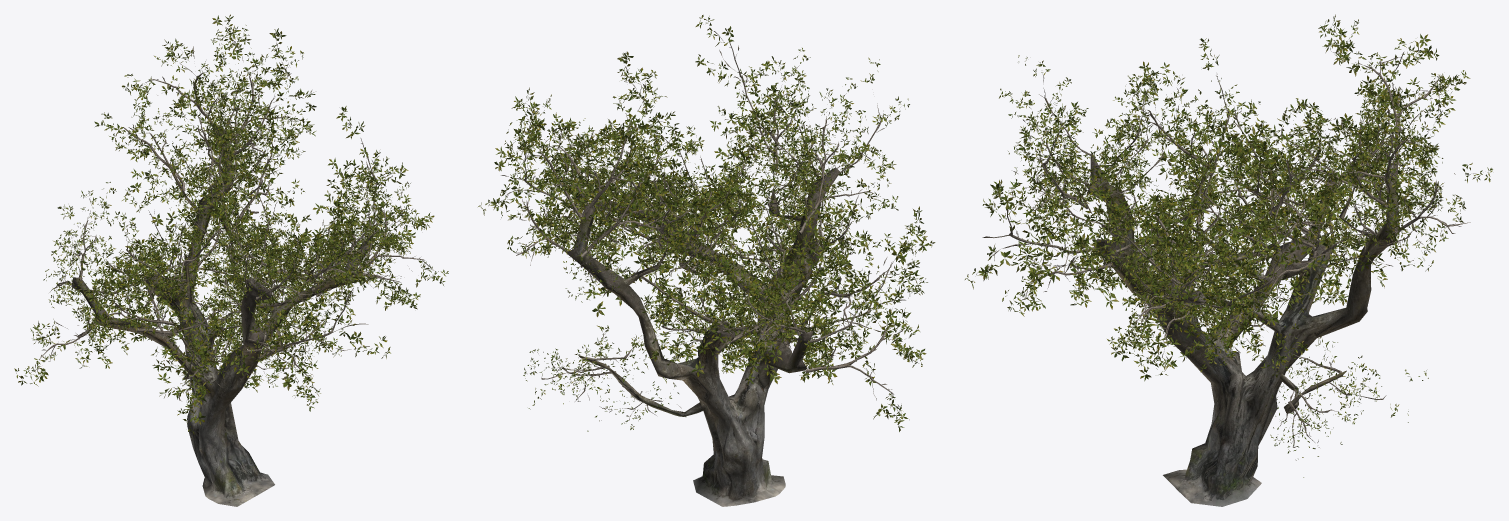
Rendered from island_tree_01.glb.
3 renders of one model, left to right at view 1: azimuth 30°, elevation 25°; view 2: azimuth 150°, elevation 25°; view 3: azimuth 270°, elevation 25°, orthographic. The views are drawn at different scales.
Parts seen in each view (by area): view 1: island_tree_01_LOD0; view 2: island_tree_01_LOD0; view 3: island_tree_01_LOD0.
Boxes of the visible parts, x1,y1,x2,y2 form: island_tree_01_LOD0: (14, 14, 448, 506); island_tree_01_LOD0: (478, 15, 935, 506); island_tree_01_LOD0: (965, 14, 1492, 506).
Bounding box in the file's own units: 4.74 × 5.02 × 4.82.
Materials: 3 (3 with a texture image).
